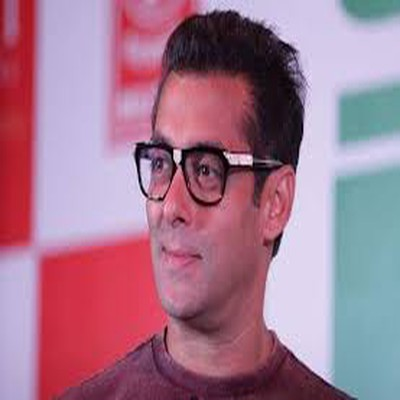eywear: (119, 117, 282, 204)
